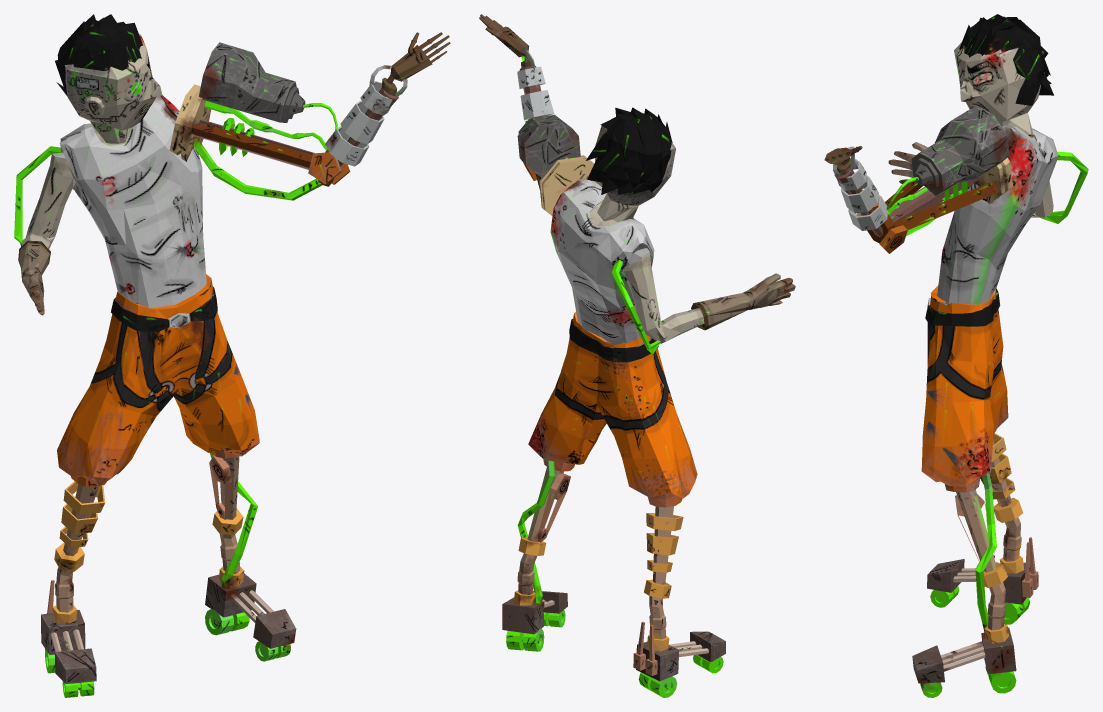
Rendered from CyborgFINALAnimation_000054.obj.
The picture shows the model from 3 angles, left to right: view 1: azimuth 30°, elevation 25°; view 2: azimuth 150°, elevation 25°; view 3: azimuth 270°, elevation 25°; orthographic projection. The views are drawn at different scales.
Visible parts, largest first — view 1: CyborgMesh_Cube.002; view 2: CyborgMesh_Cube.002; view 3: CyborgMesh_Cube.002.
Boxes of the visible parts, x1,y1,x2,y2 form: CyborgMesh_Cube.002: [14, 14, 450, 697]; CyborgMesh_Cube.002: [479, 14, 795, 697]; CyborgMesh_Cube.002: [824, 14, 1088, 697].
Bounding box in the file's own units: 5.95 × 9.56 × 3.7.
